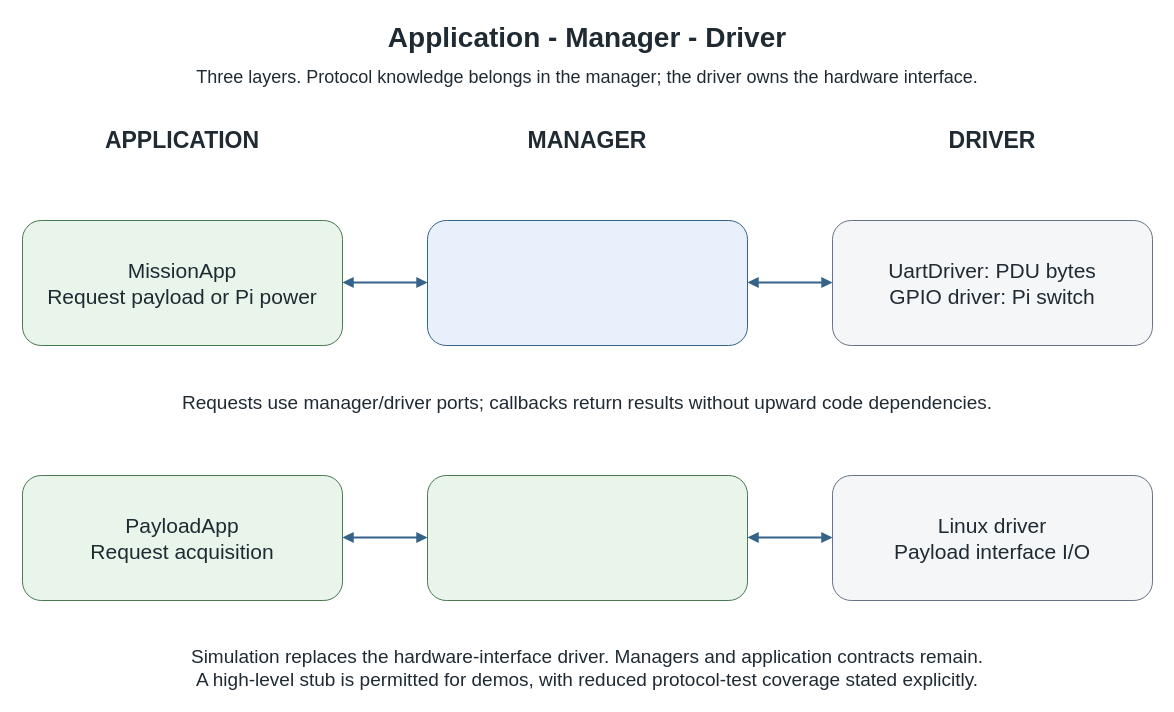
The diagram is 1174 pixels wide and 712 high, and some of its shapes have lost their labels. The shapes that lost their labels are listed below. From the top down, each one's box as (x1, y1, x2, y2) in pixels, then its label:
(426, 220, 748, 346): EpsManager Power policy + PDU protocol
(426, 474, 748, 600): PayloadManager Device protocol + lifecycle
